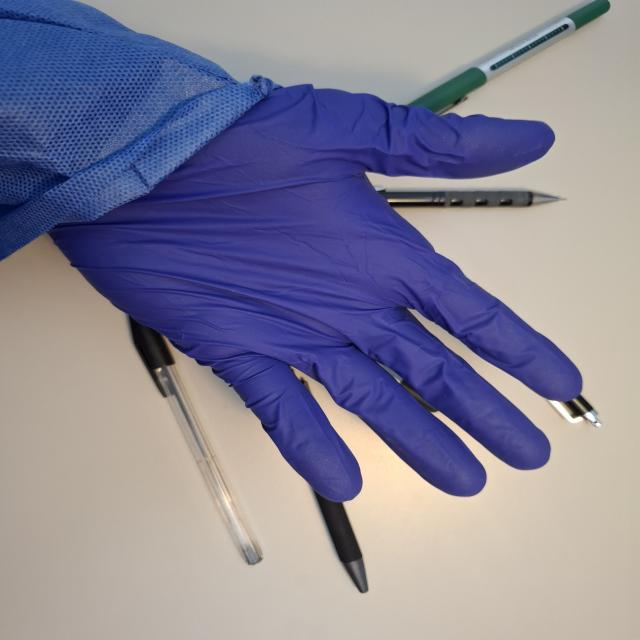glove_on: (35, 78, 586, 504)
